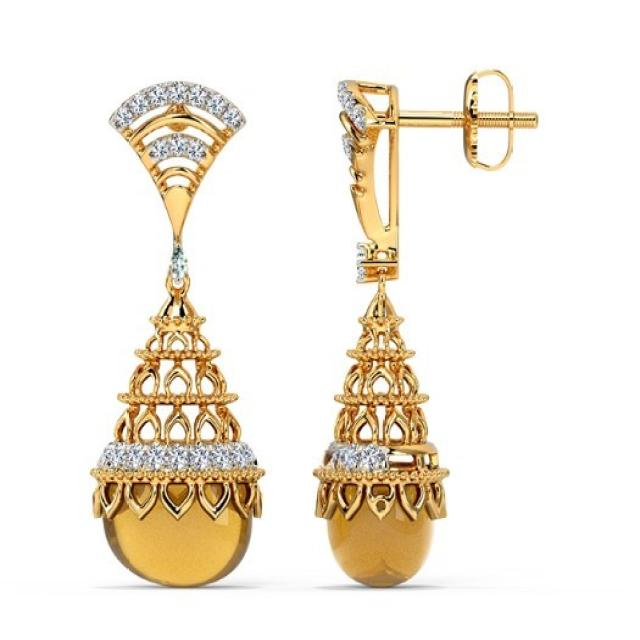missing gem: (388, 449, 413, 469), (372, 495, 389, 515), (413, 450, 429, 467), (430, 449, 441, 465)
